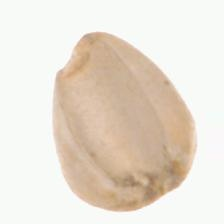L1: (124, 162, 191, 211), (55, 29, 101, 77)
L2: (51, 32, 199, 213)
